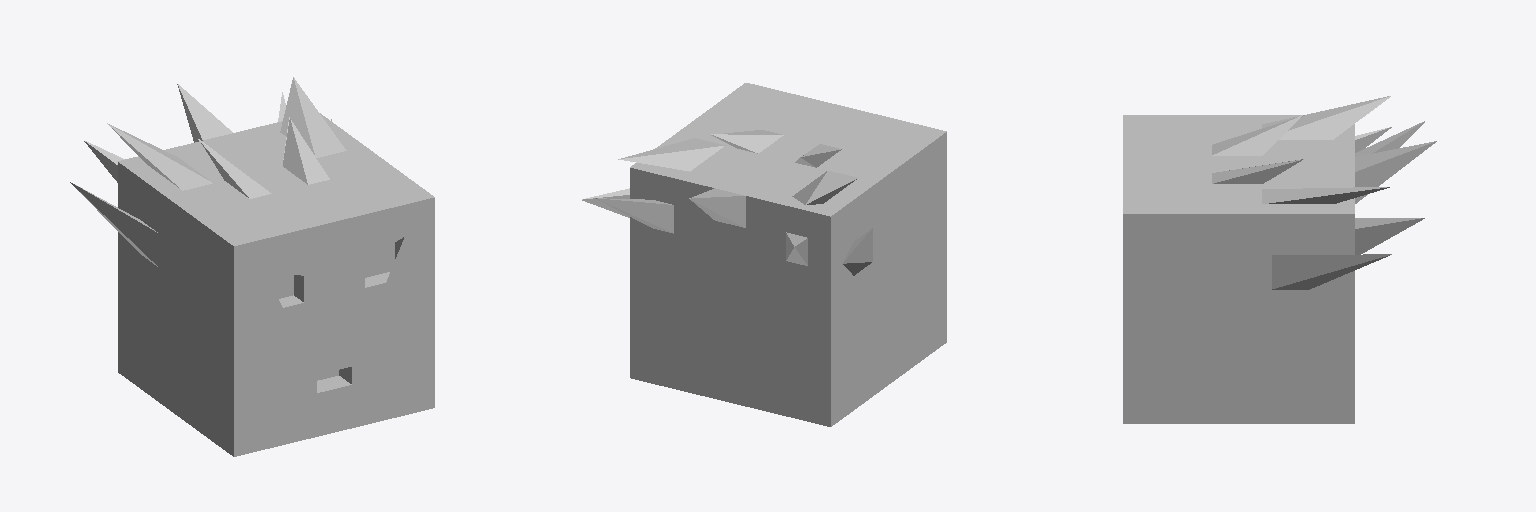
File: coal 3.obj
3 views of the same model, side by side, from view 1: azimuth 30°, elevation 25°; view 2: azimuth 150°, elevation 25°; view 3: azimuth 270°, elevation 25° (orthographic).
Visible parts, largest first — view 1: Cube; view 2: Cube; view 3: Cube.
Boxes of the visible parts, <box> form: Cube: <box>70,77,434,456</box>; Cube: <box>582,83,946,426</box>; Cube: <box>1123,96,1436,423</box>.
Bounding box in the file's own units: 2.59 × 2.26 × 2.7.